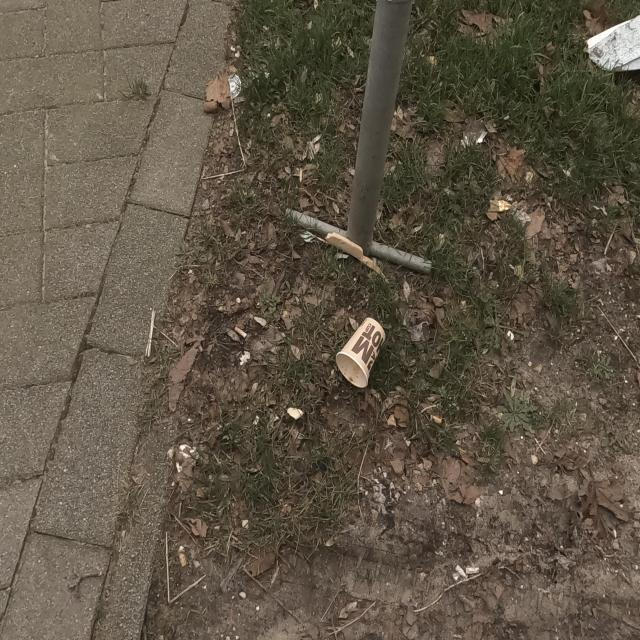Cup: (335, 317, 386, 389)
Paper: (584, 14, 640, 72)
